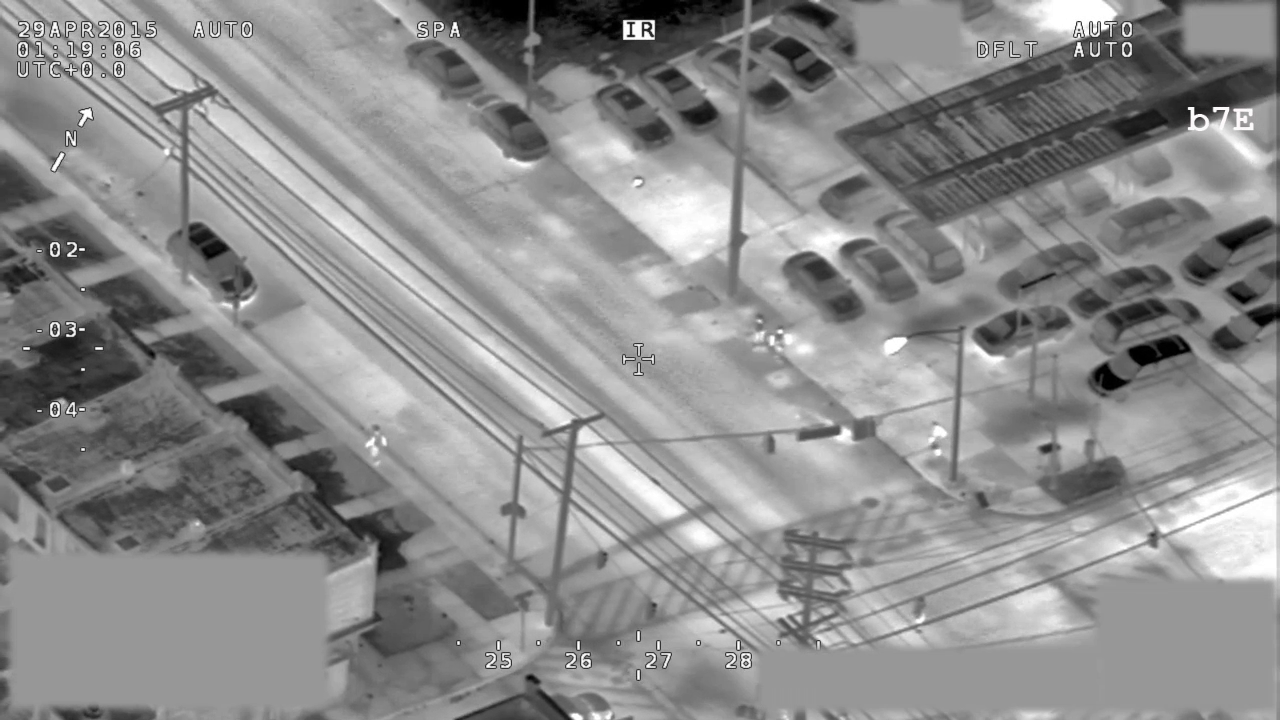vehicle: (161, 217, 260, 308), (1095, 191, 1216, 258), (693, 35, 793, 115), (736, 22, 839, 98), (1179, 210, 1280, 287), (1086, 294, 1207, 358), (1086, 334, 1195, 404), (998, 236, 1103, 305), (871, 202, 963, 280), (1065, 261, 1177, 324), (782, 242, 865, 325), (466, 91, 554, 167), (838, 231, 921, 308), (592, 80, 677, 154), (973, 302, 1076, 361), (643, 60, 723, 135), (402, 36, 488, 104), (1210, 297, 1280, 371), (815, 167, 900, 226), (774, 1, 855, 60), (959, 203, 1024, 260), (1223, 260, 1280, 314), (1014, 183, 1068, 228), (1054, 169, 1108, 214), (1116, 148, 1172, 189)
